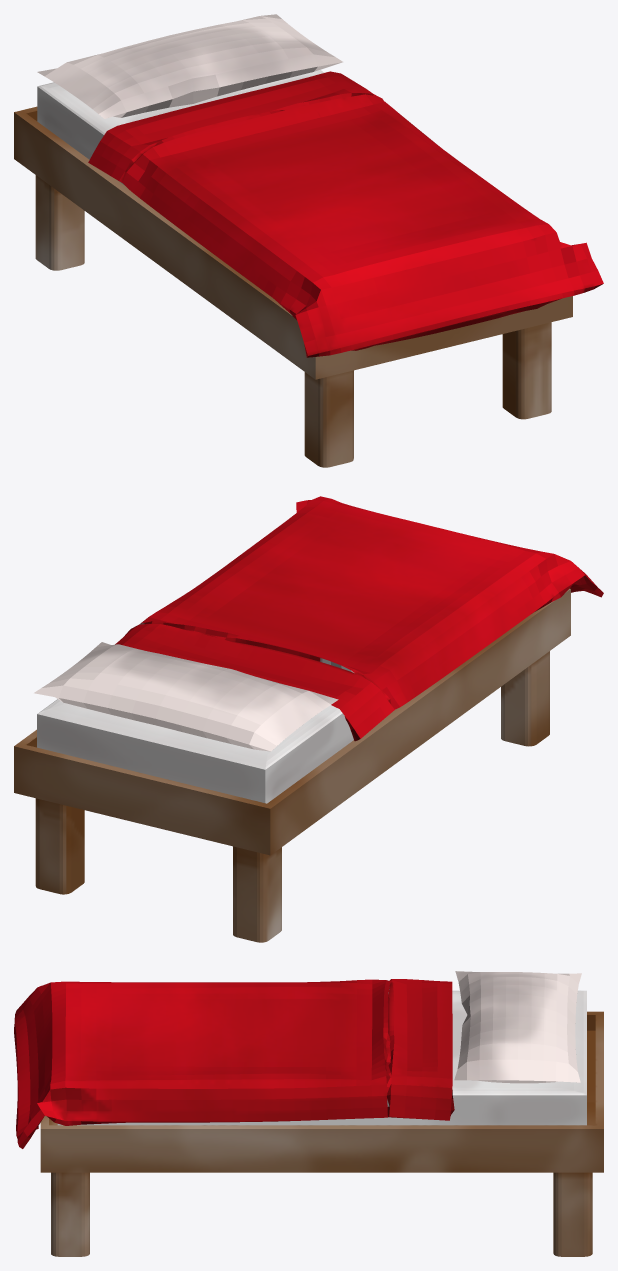
Rendered from lozko.fbx.
3 views of the same model, one above another, from view 1: azimuth 30°, elevation 25°; view 2: azimuth 150°, elevation 25°; view 3: azimuth 270°, elevation 25° (orthographic). The views are drawn at different scales.
Parts seen in each view (by area): view 1: Kostka; view 2: Kostka; view 3: Kostka.
Boxes of the visible parts, <box> form: Kostka: <box>14,14,603,467</box>; Kostka: <box>14,496,603,942</box>; Kostka: <box>14,971,603,1256</box>.
Size of the model in its own units: 531 by 365 by 978.
Materials: 1 (1 with a texture image).
